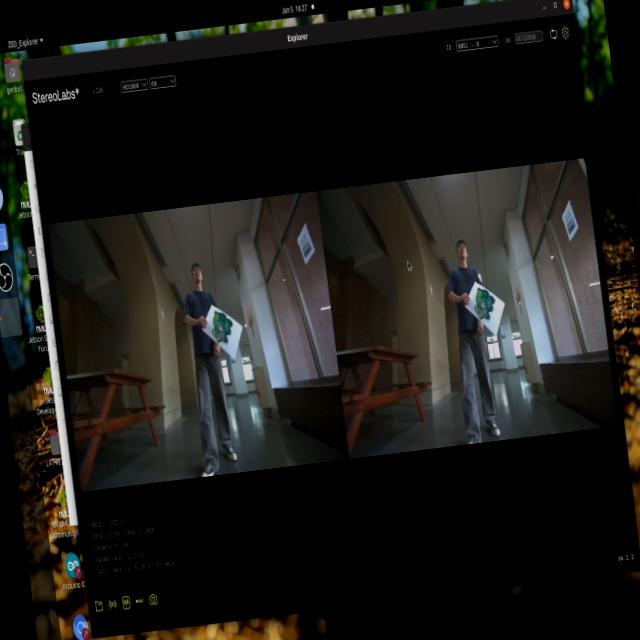green: (469, 288, 497, 336), (211, 314, 241, 351)
